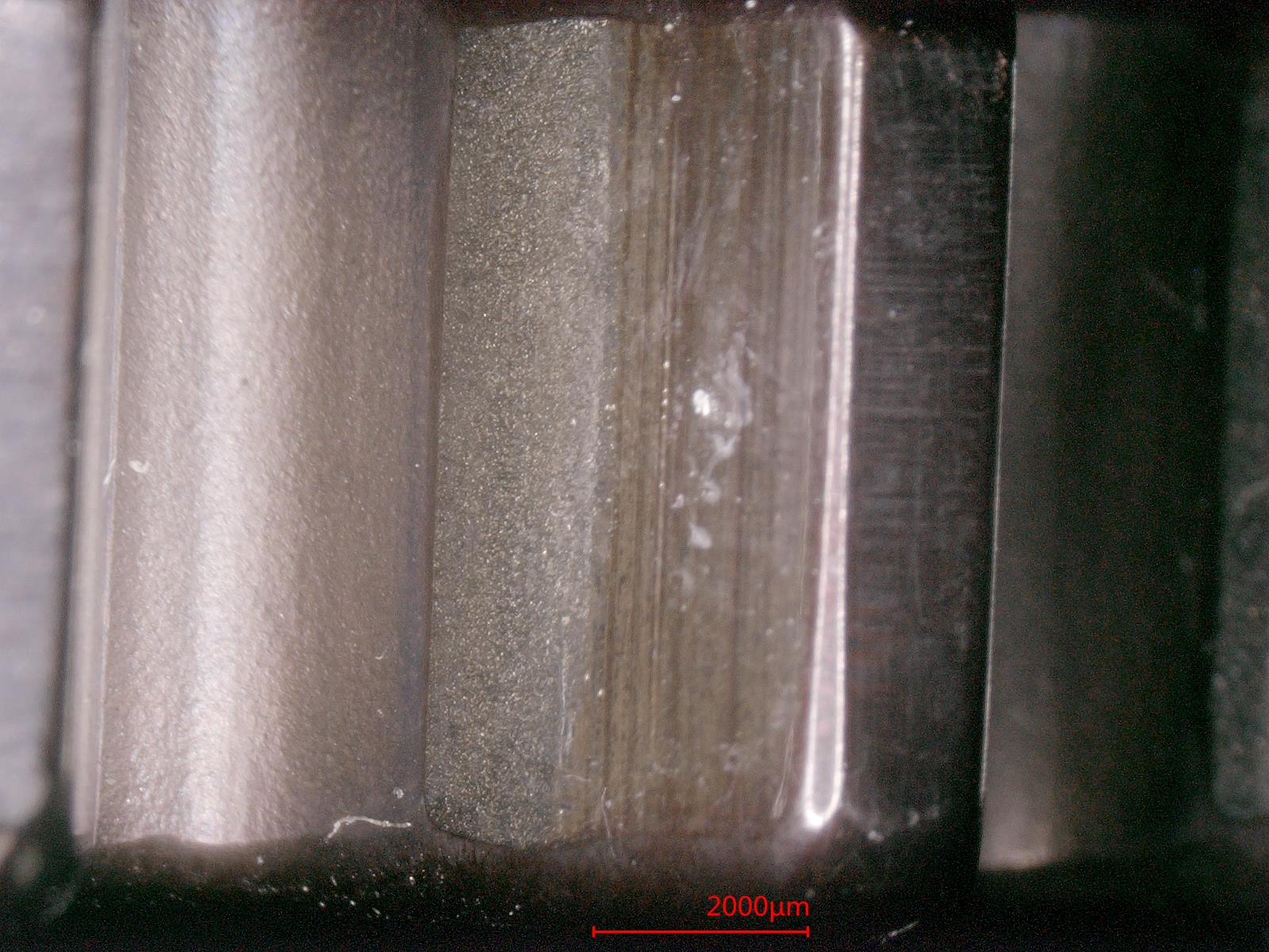Abrasion: (409, 25, 853, 837)
